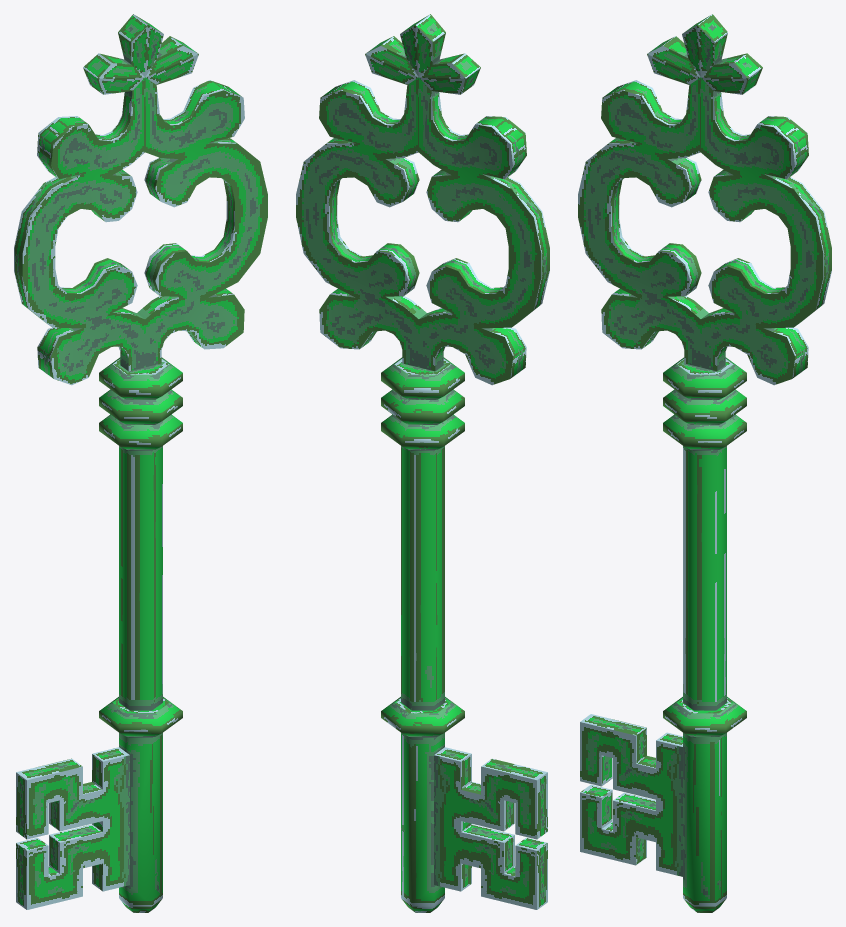
The model's file is green key.glb.
3 renders of one model, left to right at view 1: azimuth 30°, elevation 25°; view 2: azimuth 150°, elevation 25°; view 3: azimuth 330°, elevation 25°, orthographic.
Visible parts, largest first — view 1: Cylinder; view 2: Cylinder; view 3: Cylinder.
Boxes of the visible parts, x1,y1,x2,y2 form: Cylinder: (14,14,267,912); Cylinder: (296,14,549,912); Cylinder: (578,14,831,912).
Size of the model in its own units: 0.4227 by 1.46 by 0.1249.
1 material, 1 textured.
